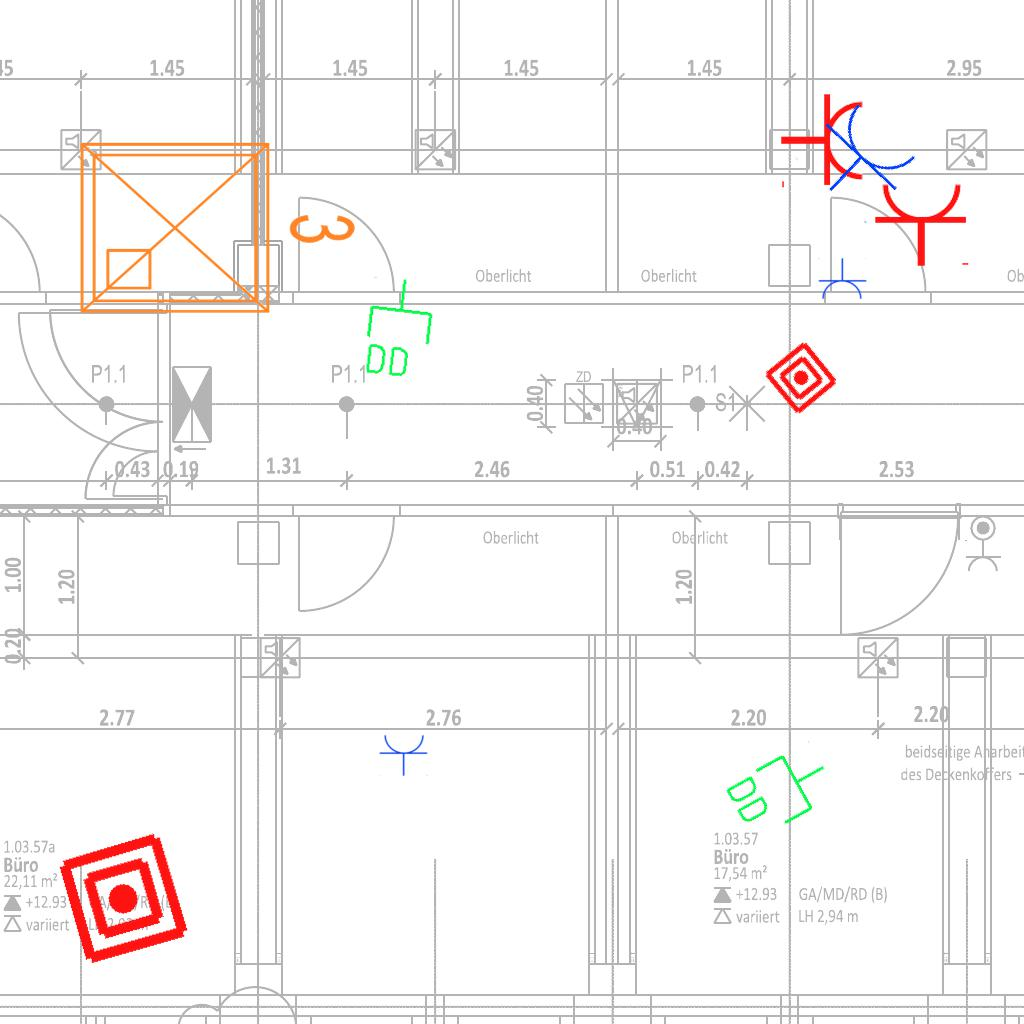Datenanschluss_zweifach: (718, 735, 843, 846), (357, 273, 440, 384)
Einbaudownlights_LED_Konferenzraeume: (66, 120, 366, 328)
NAM-Nichtautomatischer_Melder: (53, 828, 194, 969), (761, 338, 841, 418)
Schukosteckdose_einfach: (793, 93, 927, 226), (779, 92, 866, 192), (873, 181, 973, 268), (817, 258, 867, 301), (379, 733, 429, 776)
